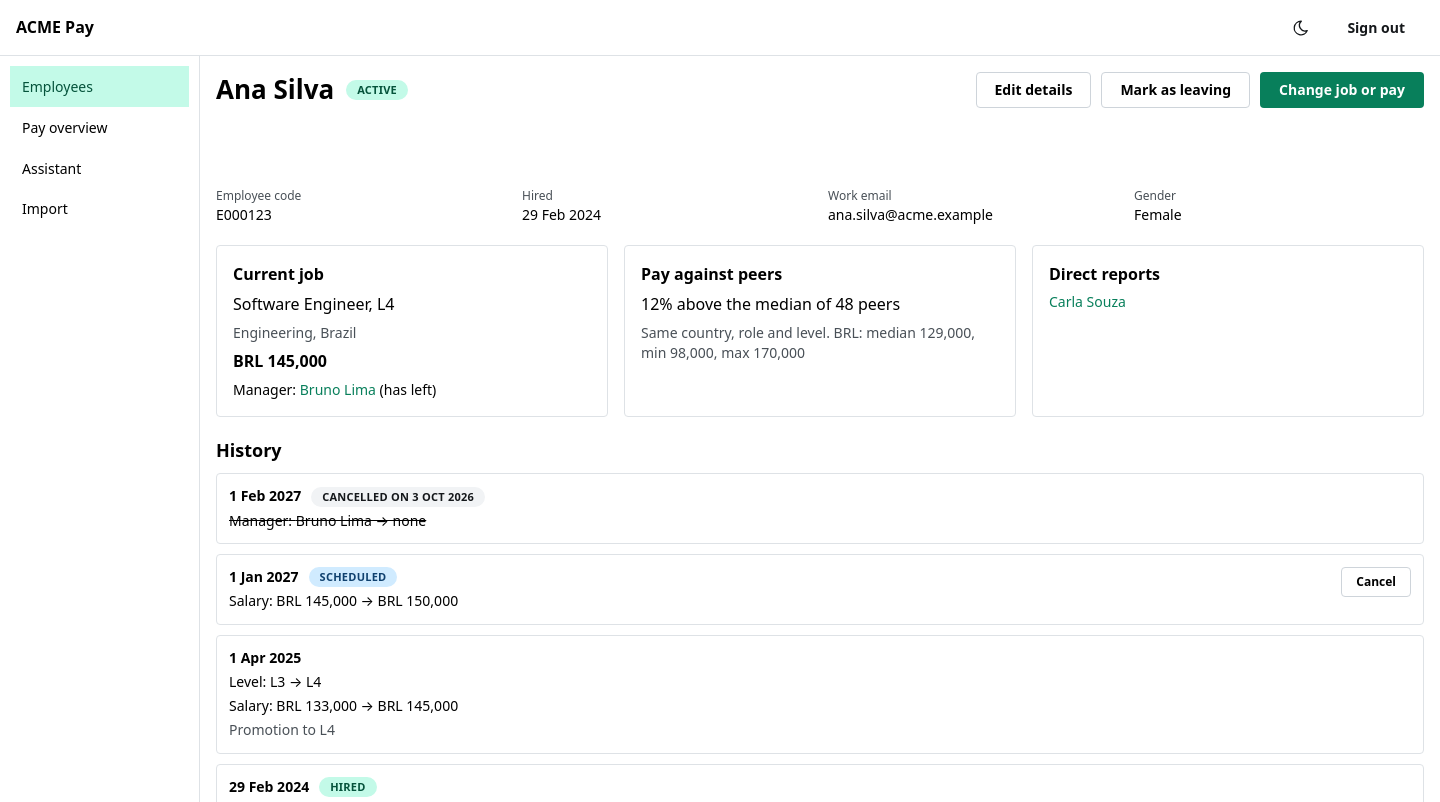
Scenario: save button can't submit twice
Click the button "Edit details": (1033, 90) [976,72,1091,108]
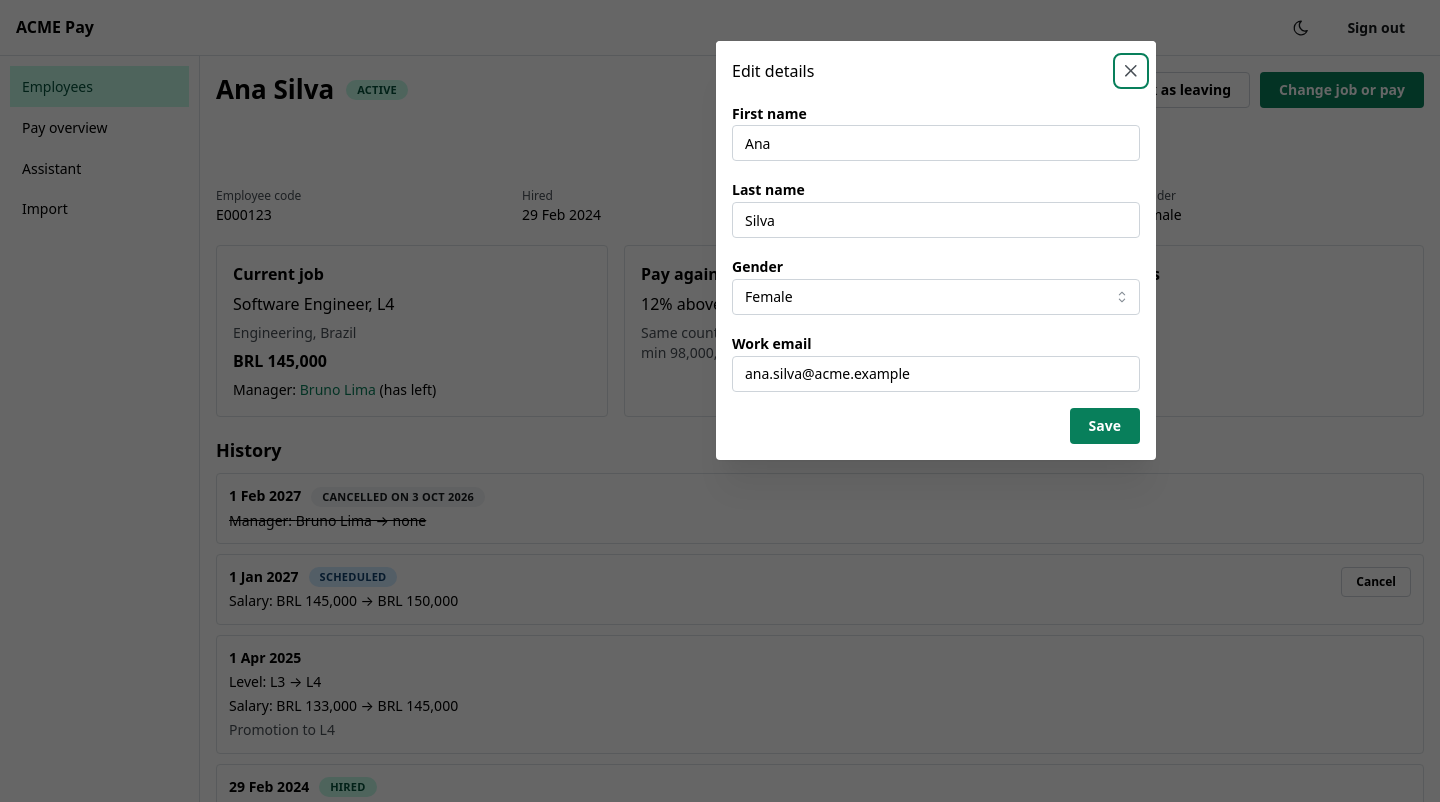
Click the button "Save": (1105, 426) [1070,408,1140,444]
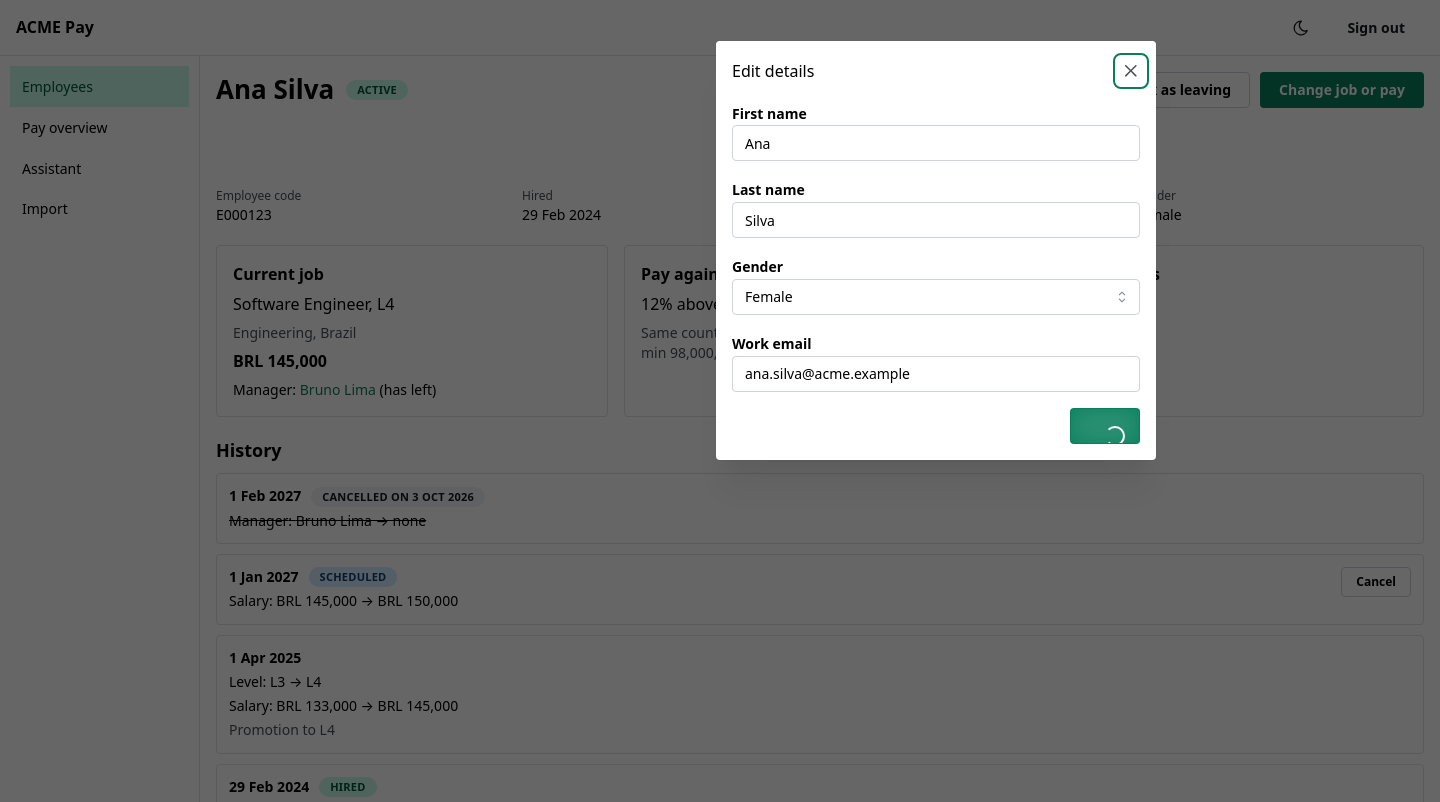
Click the button named "Save": (1105, 426) [1070,408,1140,444]
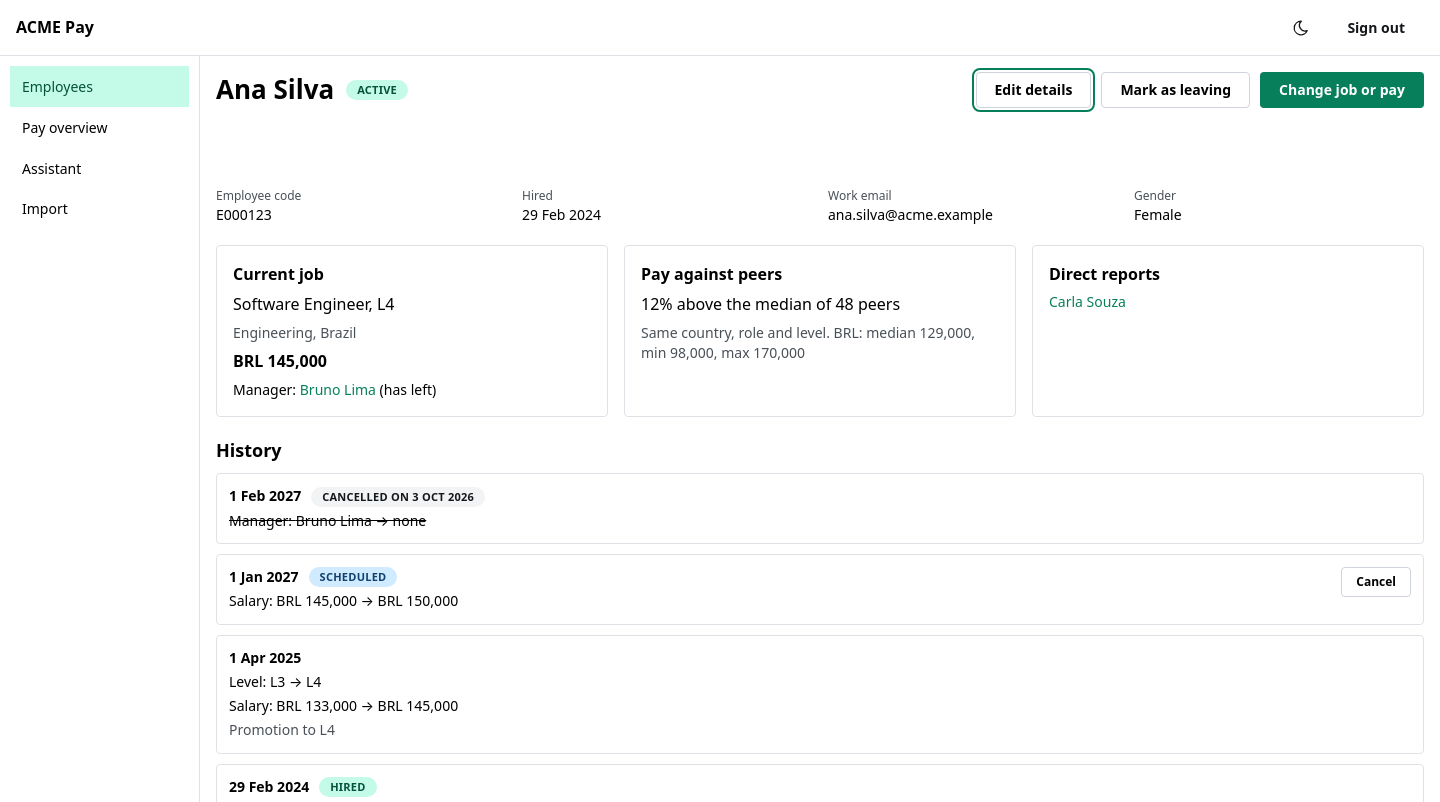
Now the dialog is gone
